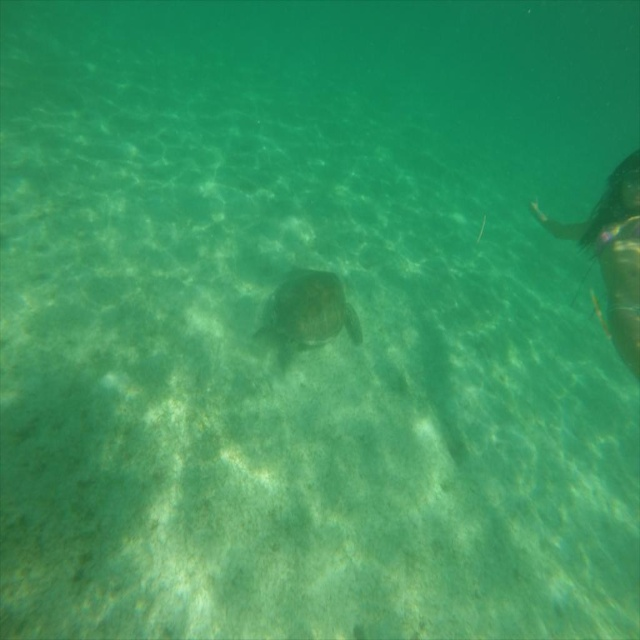Sea turtle: (254, 268, 363, 377)
